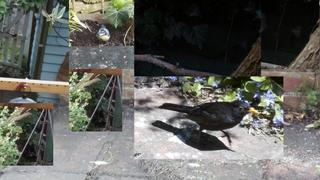blackbird: (158, 100, 259, 150)
blue tit: (96, 24, 110, 46)
